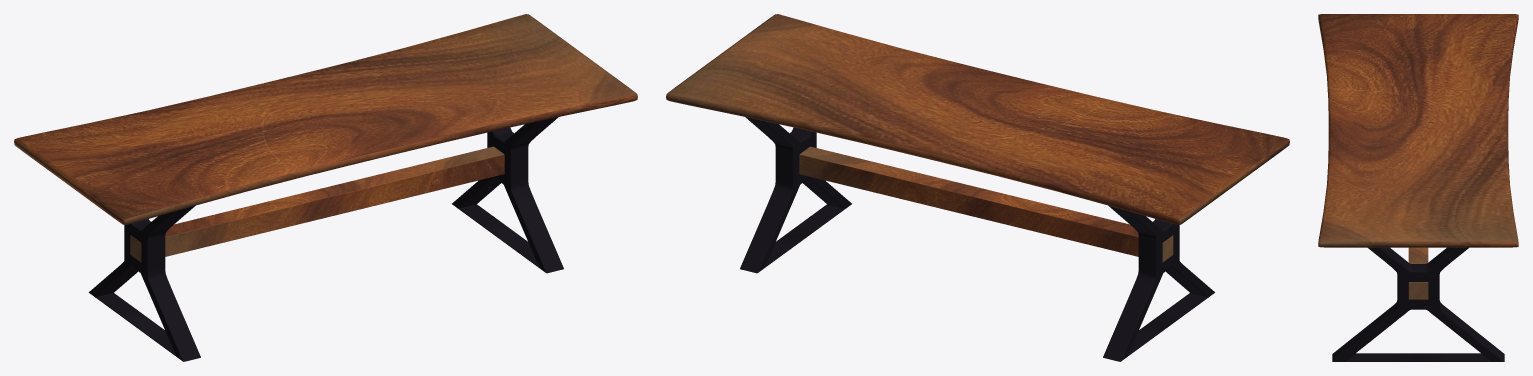
The model's file is TABLE1.fbx.
The picture shows the model from 3 angles, left to right: view 1: azimuth 30°, elevation 25°; view 2: azimuth 150°, elevation 25°; view 3: azimuth 270°, elevation 25°; orthographic projection. The views are drawn at different scales.
Parts seen in each view (by area): view 1: Cube.002; view 2: Cube.002; view 3: Cube.002.
Part boxes in pixels (x1,y1,x2,y2): Cube.002: (14, 14, 637, 361); Cube.002: (666, 14, 1289, 361); Cube.002: (1318, 14, 1518, 361).
Bounding box in the file's own units: 274 × 84.77 × 102.
2 materials, 1 textured.
